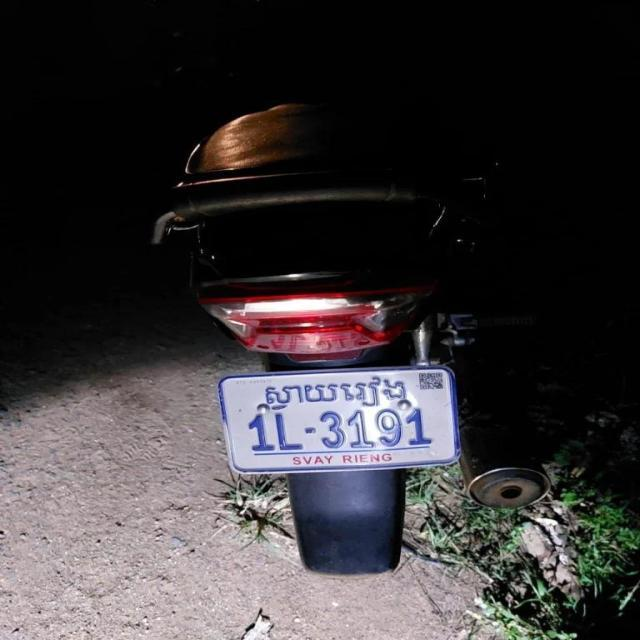Svay_Rieng: (266, 376, 405, 411)
